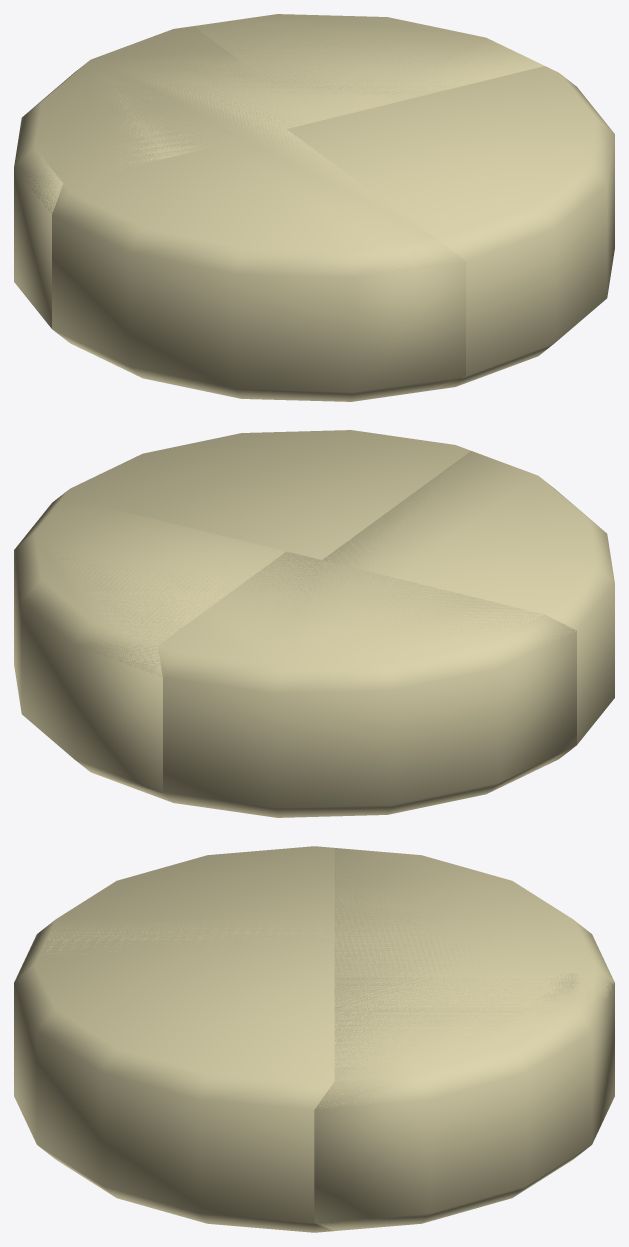
File: Cheese.fbx
3 views of the same model, one above another, from view 1: azimuth 30°, elevation 25°; view 2: azimuth 150°, elevation 25°; view 3: azimuth 270°, elevation 25° (orthographic).
Visible parts, largest first — view 1: Cheese3/4, Cheese4/4, Cheese2/4, Cheese1/4; view 2: Cheese2/4, Cheese4/4, Cheese3/4, Cheese1/4; view 3: Cheese4/4, Cheese1/4, Cheese2/4, Cheese3/4.
Part boxes in pixels (bbox=[...]): Cheese3/4: bbox=[15, 60, 540, 399]; Cheese4/4: bbox=[37, 14, 614, 401]; Cheese2/4: bbox=[14, 14, 542, 328]; Cheese1/4: bbox=[193, 14, 544, 100]; Cheese2/4: bbox=[35, 533, 576, 817]; Cheese4/4: bbox=[40, 430, 603, 817]; Cheese3/4: bbox=[169, 451, 614, 791]; Cheese1/4: bbox=[14, 497, 285, 792]; Cheese4/4: bbox=[14, 848, 614, 1232]; Cheese1/4: bbox=[314, 973, 614, 1230]; Cheese2/4: bbox=[334, 848, 614, 1080]; Cheese3/4: bbox=[14, 846, 567, 1079].
Bounding box in the file's own units: 21.38 × 5.89 × 21.38.
